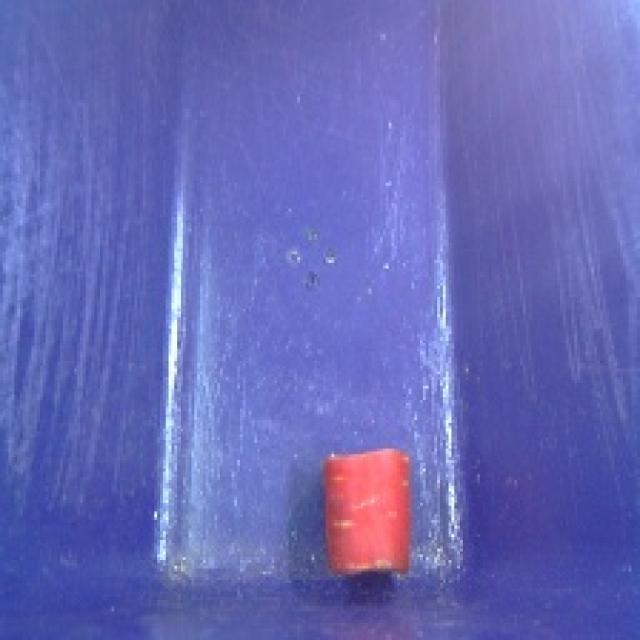carrots: (316, 437, 423, 581)
